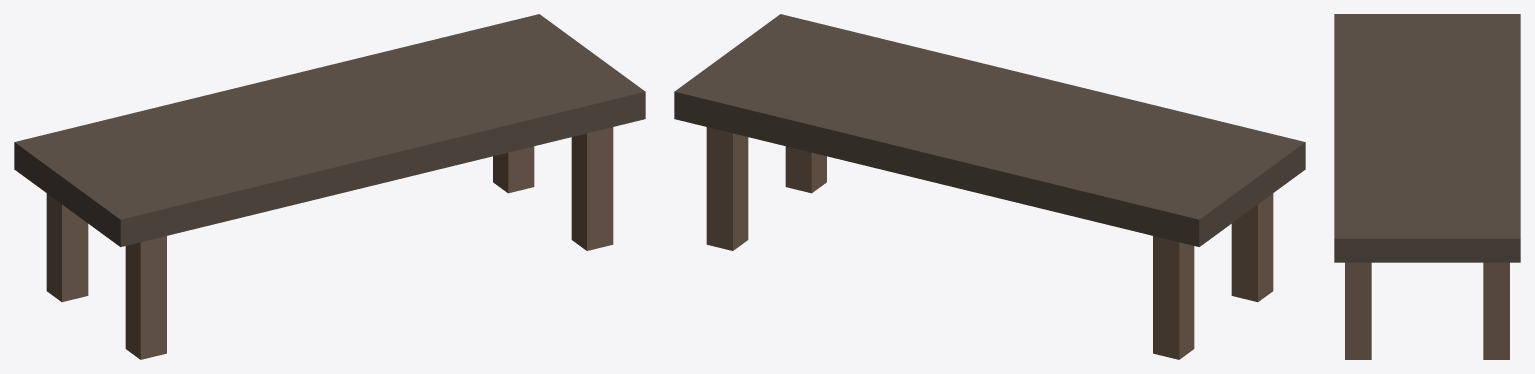
File: prop_engawa.glb
3 views of the same model, side by side, from view 1: azimuth 30°, elevation 25°; view 2: azimuth 150°, elevation 25°; view 3: azimuth 270°, elevation 25° (orthographic). The views are drawn at different scales.
Visible parts, largest first — view 1: engawa; view 2: engawa; view 3: engawa.
Part boxes in pixels (box(x1,y1,x2,y2)): engawa: box(14, 14, 645, 359); engawa: box(674, 14, 1305, 359); engawa: box(1334, 14, 1520, 359).
Bounding box in the file's own units: 2 × 0.55 × 0.7.
